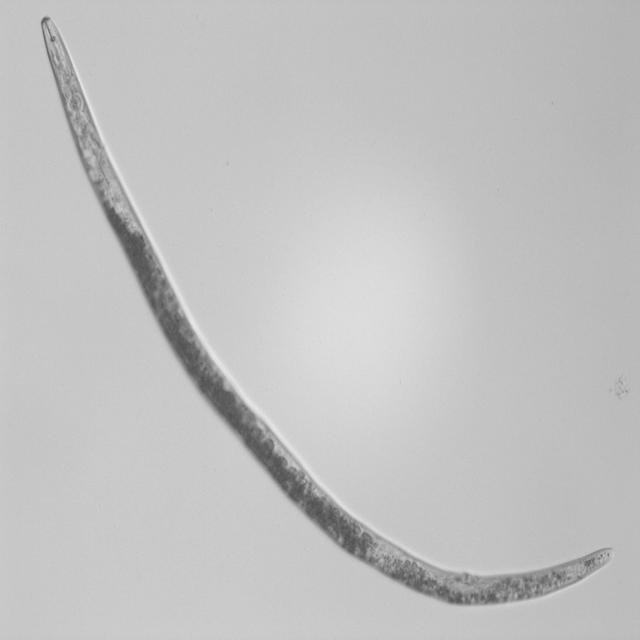Pratylenchus: (37, 13, 618, 608)
